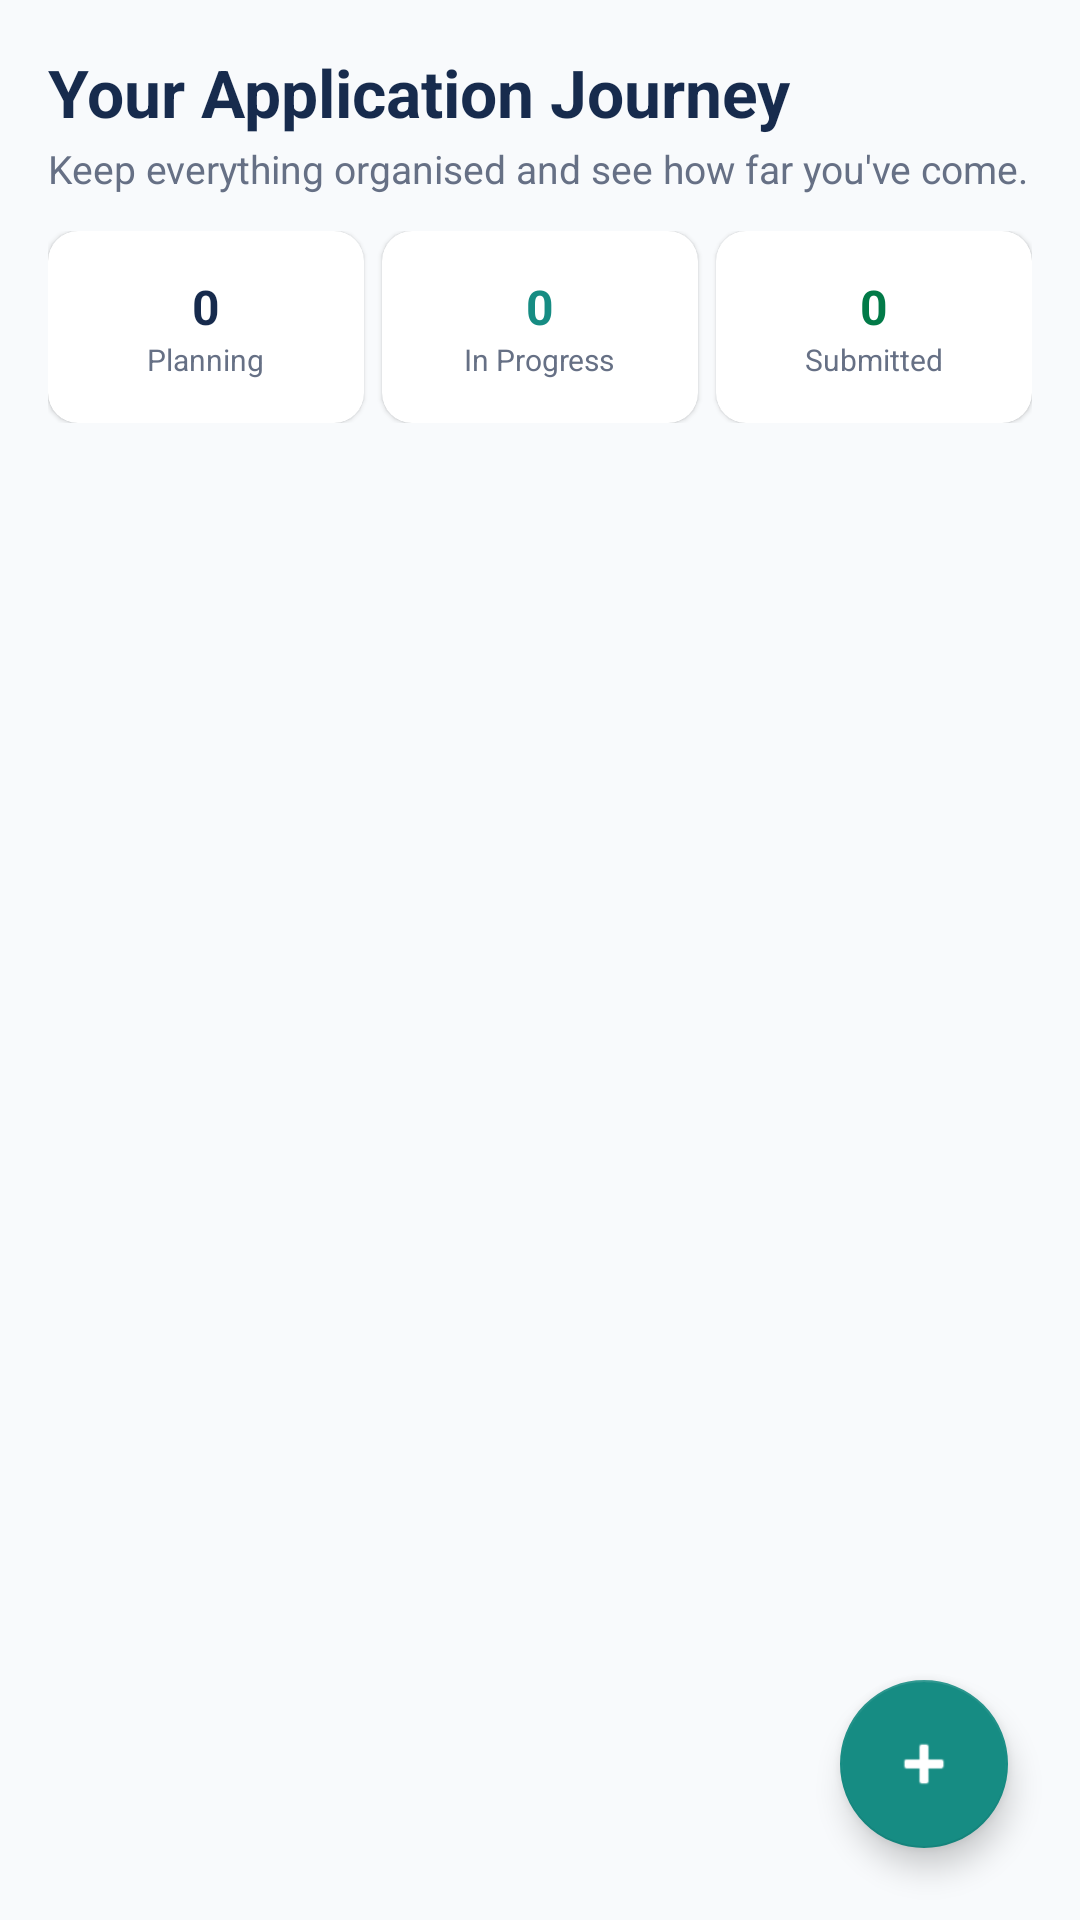

Icons on this 1080x1920 Android screen, each with its box as (x1, y1, x2, y2):
Add Application Record: (840, 1680, 1008, 1848)
